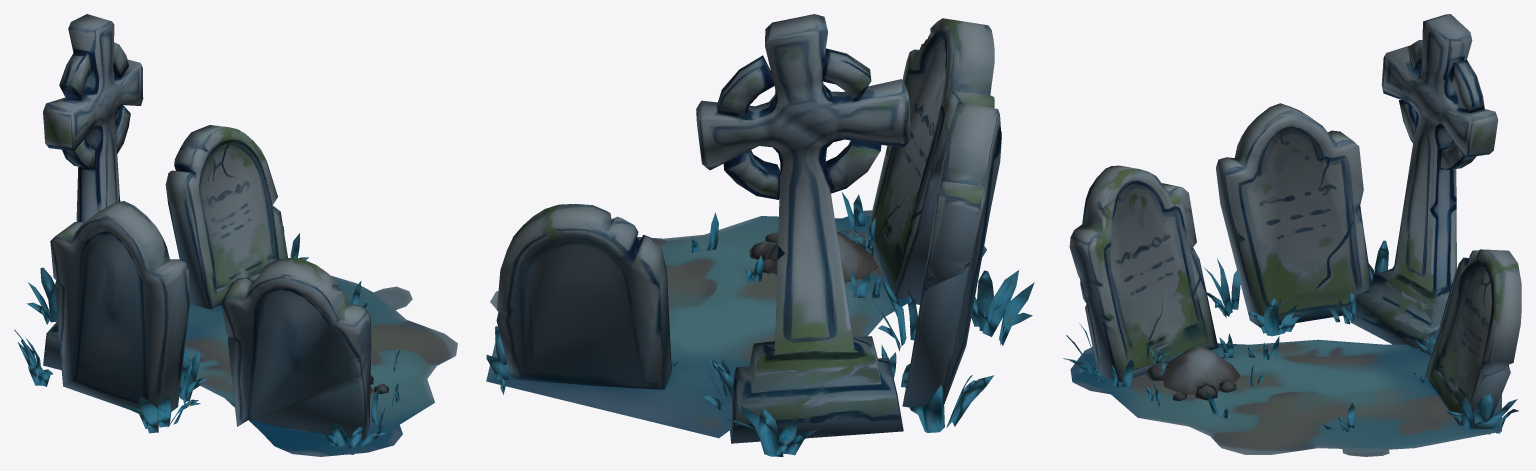
The model's file is map_gravestones_tripo.glb.
3 renders of one model, left to right at view 1: azimuth 30°, elevation 25°; view 2: azimuth 150°, elevation 25°; view 3: azimuth 270°, elevation 25°, orthographic. The views are drawn at different scales.
Visible parts, largest first — view 1: tripo_node_ce886e68-8c31-4746-a3d1-86a2e6bf5cd0; view 2: tripo_node_ce886e68-8c31-4746-a3d1-86a2e6bf5cd0; view 3: tripo_node_ce886e68-8c31-4746-a3d1-86a2e6bf5cd0.
Part boxes in pixels (box(x1,y1,x2,y2)): tripo_node_ce886e68-8c31-4746-a3d1-86a2e6bf5cd0: box(14, 14, 457, 456); tripo_node_ce886e68-8c31-4746-a3d1-86a2e6bf5cd0: box(486, 14, 1034, 456); tripo_node_ce886e68-8c31-4746-a3d1-86a2e6bf5cd0: box(1063, 14, 1521, 456).
Size of the model in its own units: 0.9434 by 0.7637 by 0.998.
Materials: 1 (1 with a texture image).
